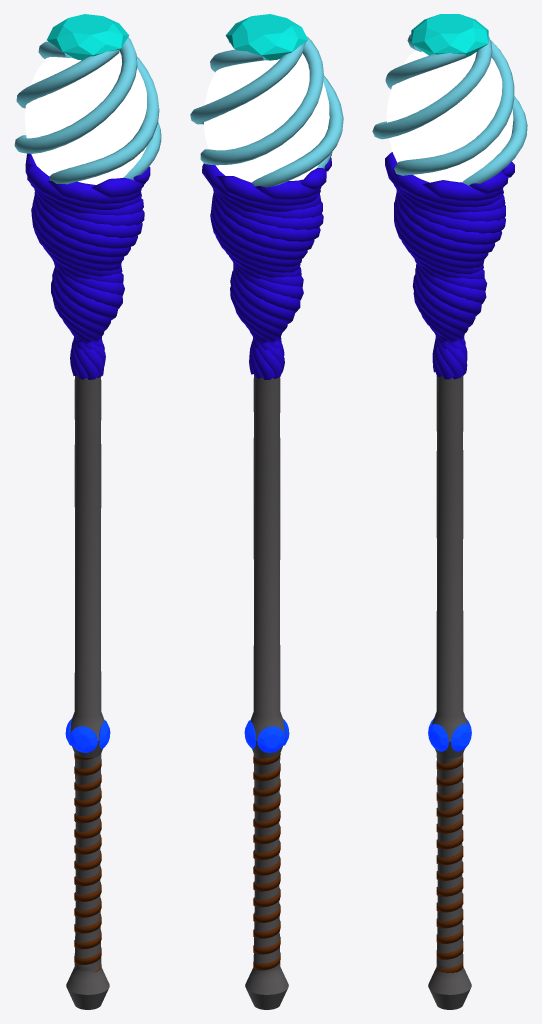
File: magic staff old.fbx
3 renders of one model, left to right at view 1: azimuth 30°, elevation 25°; view 2: azimuth 150°, elevation 25°; view 3: azimuth 270°, elevation 25°, orthographic.
Visible parts, largest first — view 1: magic staff; view 2: magic staff; view 3: magic staff.
Boxes of the visible parts, box(x1,y1,x2,y2) form: magic staff: box(14, 14, 161, 1009); magic staff: box(190, 14, 343, 1009); magic staff: box(372, 14, 527, 1009).
Bounding box in the file's own units: 106 × 738 × 106.
